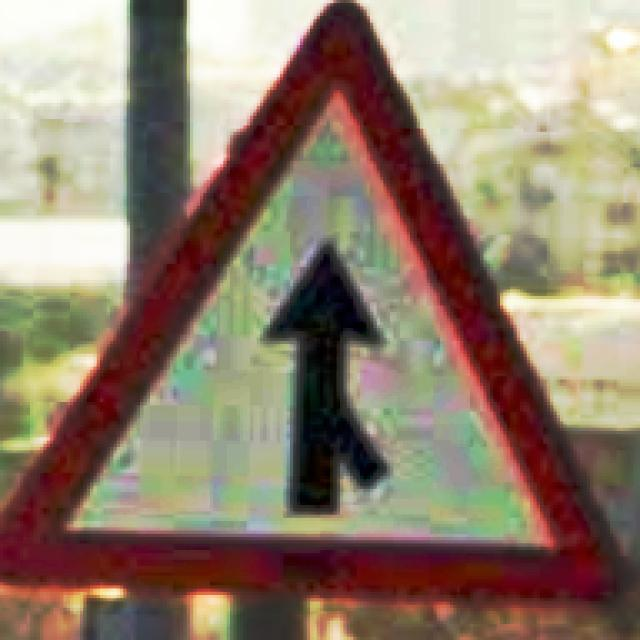rightmerge: (4, 6, 623, 599)
